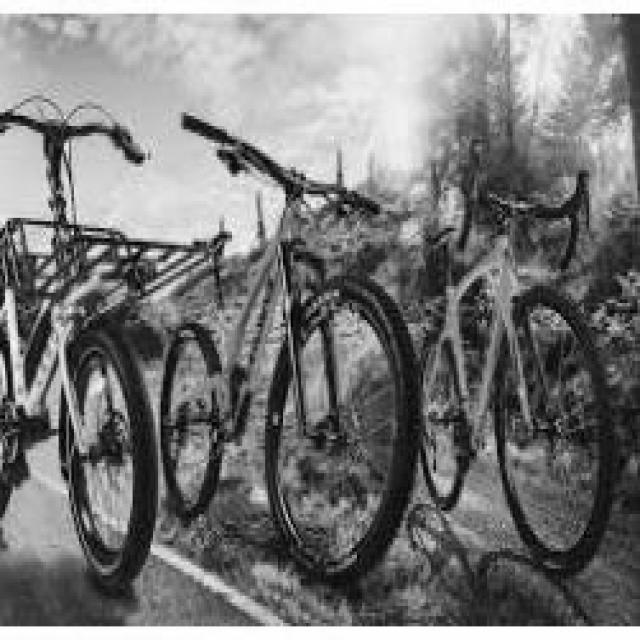bicycle: (127, 109, 431, 599), (5, 88, 166, 623), (420, 201, 620, 558)
